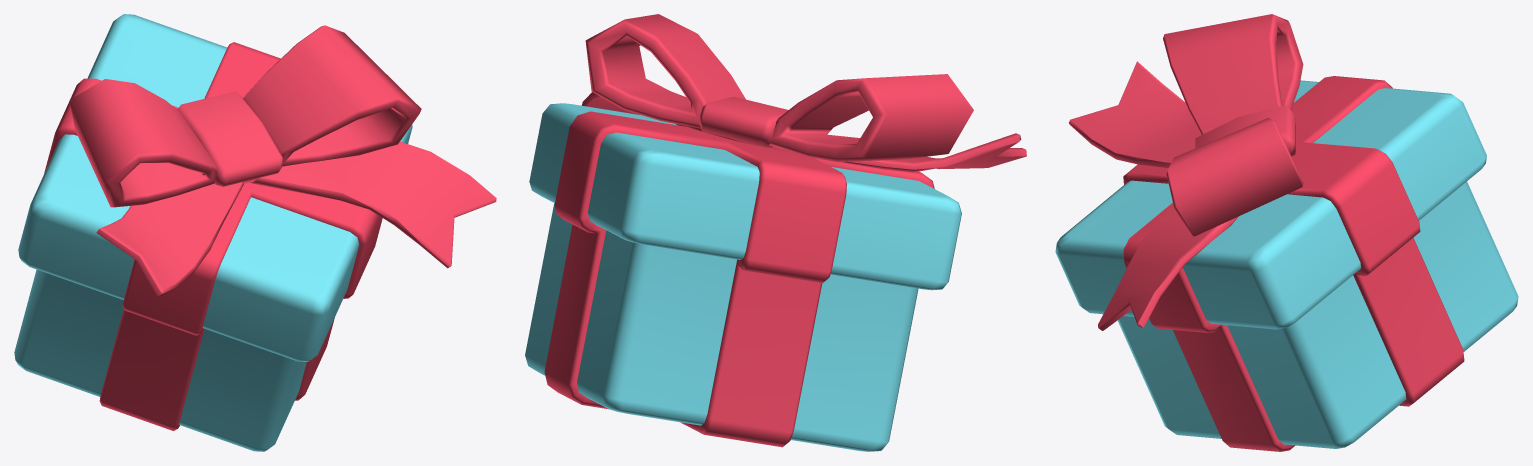
3 views of the same model, side by side, from view 1: azimuth 30°, elevation 25°; view 2: azimuth 150°, elevation 25°; view 3: azimuth 270°, elevation 25° (orthographic). The views are drawn at different scales.
Parts seen in each view (by area): view 1: model_1.069; view 2: model_1.069; view 3: model_1.069.
Boxes of the visible parts, bbox=[...] form: model_1.069: bbox=[14, 14, 496, 451]; model_1.069: bbox=[525, 14, 1026, 451]; model_1.069: bbox=[1055, 14, 1518, 451].
Size of the model in its own units: 4.97 by 4.27 by 4.92.
